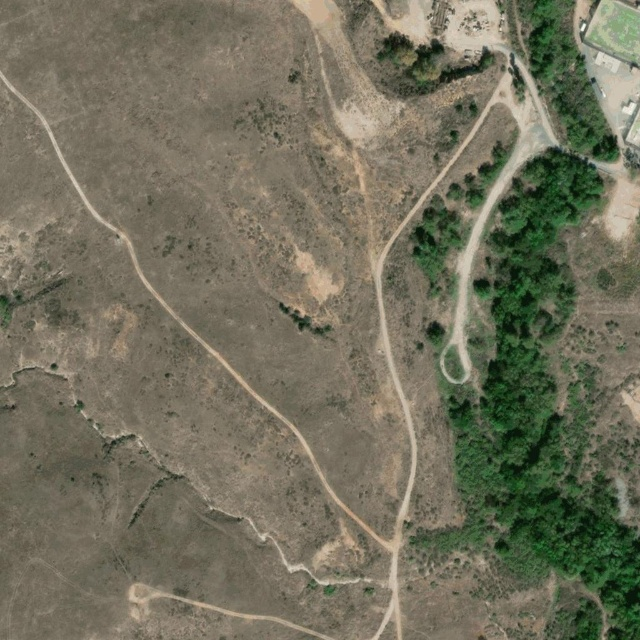vegetation: (412, 149, 640, 640), (518, 0, 618, 163), (412, 147, 508, 303), (379, 35, 495, 92), (545, 599, 602, 640), (422, 322, 446, 346)
